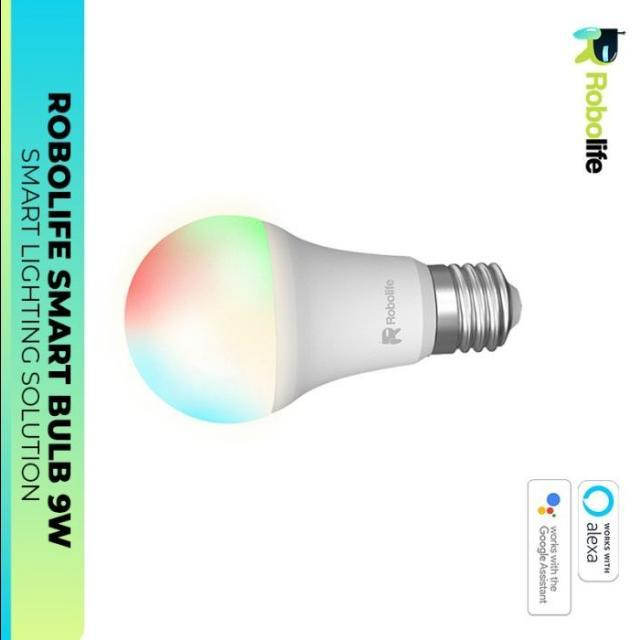light_bulb: (121, 200, 534, 430)
